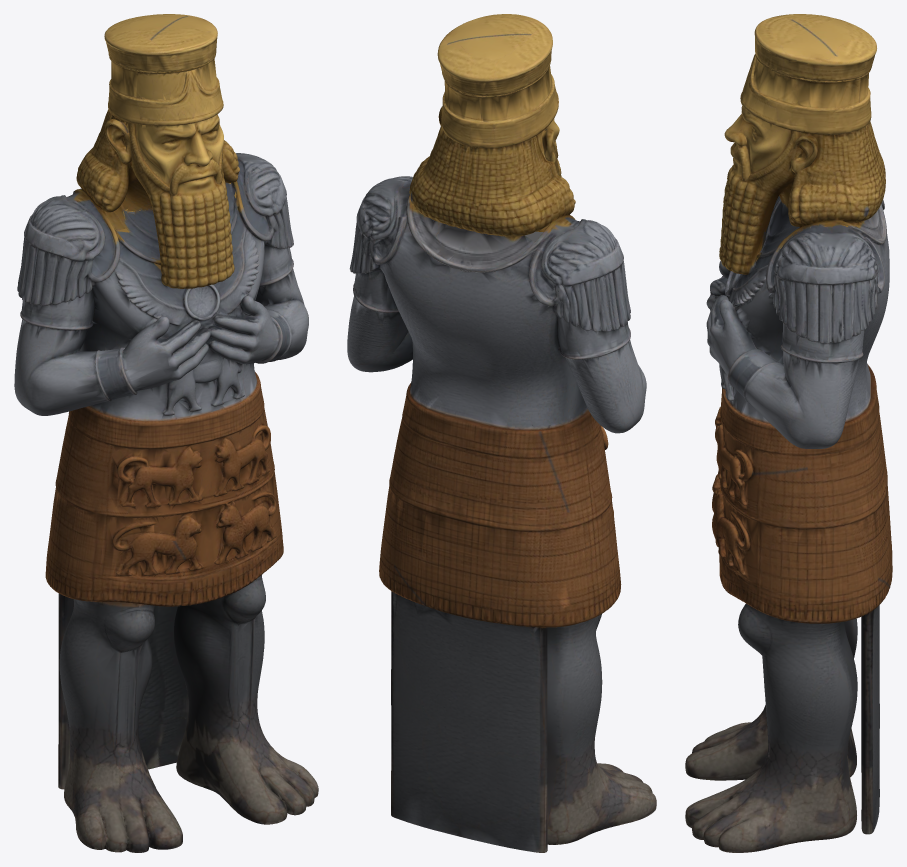
The model's file is statue_v11f_hd.glb.
3 renders of one model, left to right at view 1: azimuth 30°, elevation 25°; view 2: azimuth 150°, elevation 25°; view 3: azimuth 270°, elevation 25°, orthographic.
Visible parts, largest first — view 1: chest_silver, belly_bronze, head_gold, legs_iron, feet_clay; view 2: chest_silver, belly_bronze, legs_iron, head_gold, feet_clay; view 3: belly_bronze, chest_silver, head_gold, legs_iron, feet_clay.
Part boxes in pixels (x1,y1,x2,y2): chest_silver: [14, 153, 308, 420]; belly_bronze: [45, 372, 283, 607]; head_gold: [72, 14, 244, 288]; legs_iron: [58, 575, 265, 756]; feet_clay: [58, 693, 318, 852]; chest_silver: [347, 176, 646, 433]; belly_bronze: [379, 382, 621, 628]; legs_iron: [391, 592, 602, 785]; head_gold: [408, 14, 575, 242]; feet_clay: [391, 749, 656, 852]; belly_bronze: [712, 364, 892, 623]; chest_silver: [706, 196, 889, 448]; head_gold: [719, 14, 885, 274]; legs_iron: [738, 603, 879, 773]; feet_clay: [685, 705, 879, 852].
Bounding box in the file's own units: 0.3853 × 1 × 0.2446.
1 material, 1 textured.
